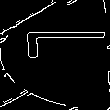L_E: (4, 39, 106, 71)
